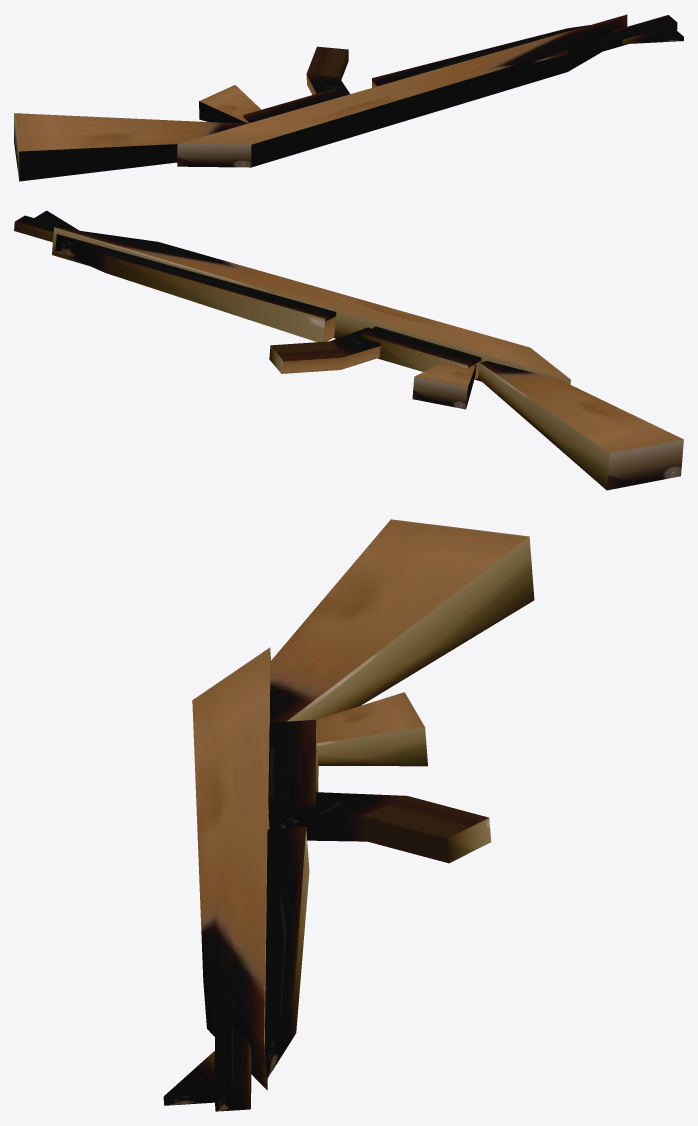
The model's file is mimita-ak47-v1.glb.
3 renders of one model, top to bottom at view 1: azimuth 30°, elevation 25°; view 2: azimuth 150°, elevation 25°; view 3: azimuth 270°, elevation 25°, orthographic. The views are drawn at different scales.
Visible parts, largest first — view 1: Cube.026; view 2: Cube.026; view 3: Cube.026.
Part boxes in pixels (x1,y1,x2,y2): Cube.026: [14, 14, 683, 181]; Cube.026: [14, 210, 683, 490]; Cube.026: [163, 519, 534, 1111].
Bounding box in the file's own units: 2.47 × 0.196 × 0.6468.
1 material, 1 textured.
